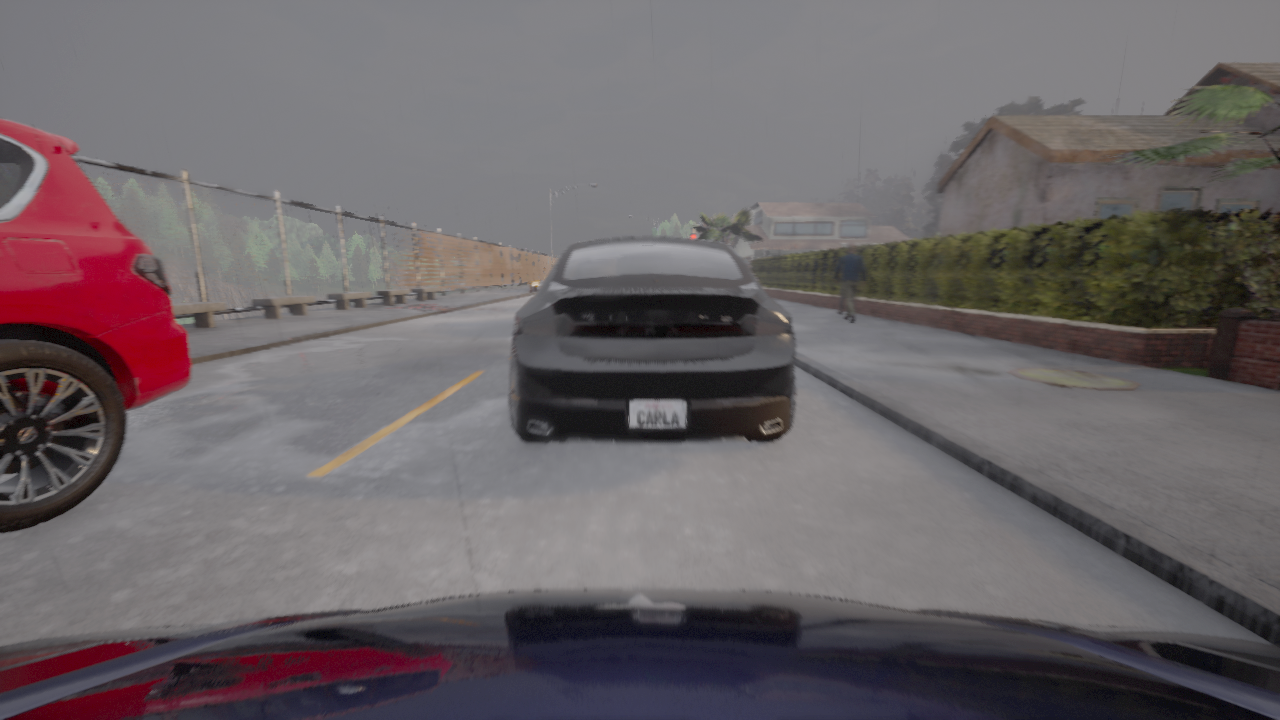cyclist: (0, 588, 1279, 719), (509, 235, 795, 444)
pedestrian: (833, 243, 865, 323), (836, 263, 856, 317)
